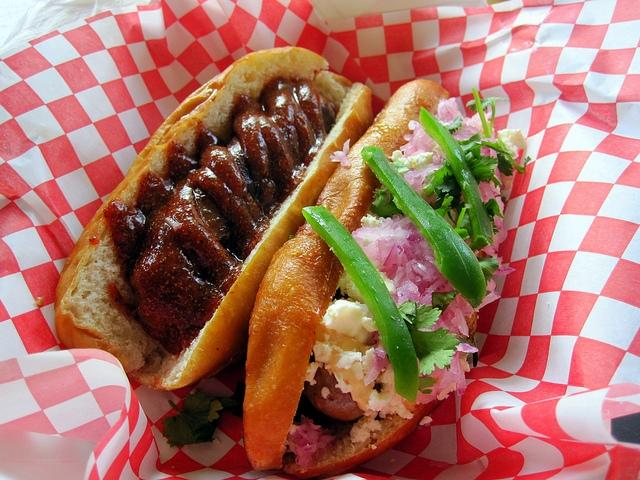bell pepper: (302, 205, 418, 404), (360, 146, 486, 308), (419, 107, 494, 244)
onion: (364, 353, 390, 386), (382, 241, 404, 278), (296, 428, 336, 448), (416, 377, 443, 404), (444, 304, 474, 327), (474, 292, 502, 312), (452, 307, 469, 337), (439, 367, 462, 388), (467, 113, 486, 136), (479, 180, 497, 204), (402, 167, 426, 185), (445, 97, 461, 121), (414, 128, 432, 144), (452, 129, 476, 141), (495, 222, 508, 244), (333, 151, 351, 166), (480, 147, 498, 158), (408, 120, 422, 134), (298, 454, 312, 468), (375, 345, 386, 358), (296, 444, 306, 458), (307, 430, 319, 441), (481, 245, 495, 254), (411, 150, 426, 156)
